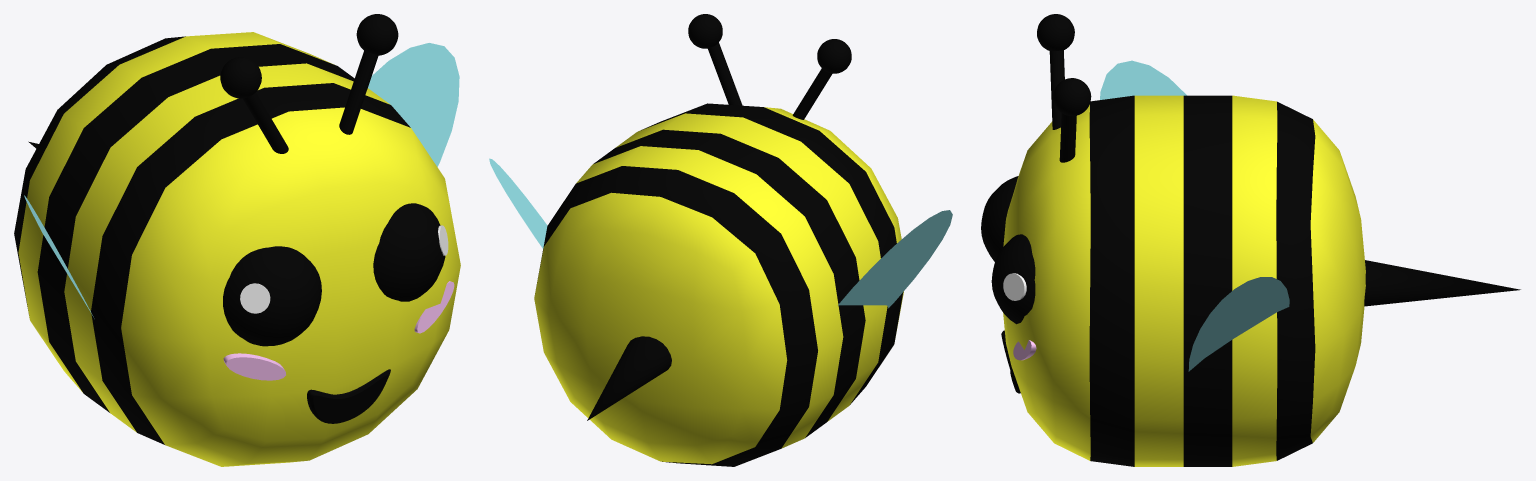
3 renders of one model, left to right at view 1: azimuth 30°, elevation 25°; view 2: azimuth 150°, elevation 25°; view 3: azimuth 270°, elevation 25°, orthographic. The views are drawn at different scales.
Parts seen in each view (by area): view 1: pCube1, polySurface4, pDisc1, polySurface2, bevelPolygon1, pSphere2, pSphere3, pCylinder4, pCylinder6, pCylinder5, polySurface3, pCylinder7 (+1 smaller); view 2: pCube1, pDisc2, pCone1, pDisc1, pSphere2, pSphere3, pCylinder4, pCylinder5; view 3: pCube1, pDisc1, pCone1, polySurface2, pDisc2, polySurface4, pSphere3, pSphere2, pCylinder5, pCylinder4.
Part boxes in pixels (x1,y1,x2,y2): pCube1: [14, 32, 460, 466]; polySurface4: [223, 246, 321, 346]; pDisc1: [368, 43, 459, 166]; polySurface2: [373, 203, 445, 301]; bevelPolygon1: [307, 369, 390, 423]; pSphere2: [220, 57, 261, 98]; pSphere3: [356, 14, 398, 55]; pCylinder4: [339, 51, 378, 134]; pCylinder6: [223, 353, 285, 380]; pCylinder5: [242, 92, 288, 153]; polySurface3: [240, 283, 270, 313]; pCylinder7: [414, 281, 454, 333]; pCube1: [534, 103, 903, 466]; pDisc2: [838, 210, 952, 308]; pCone1: [587, 336, 671, 420]; pDisc1: [489, 158, 547, 248]; pSphere2: [817, 39, 851, 73]; pSphere3: [688, 14, 722, 48]; pCylinder4: [708, 42, 742, 105]; pCylinder5: [792, 68, 832, 119]; pCube1: [1003, 95, 1365, 466]; pDisc1: [1188, 277, 1289, 371]; pCone1: [1364, 260, 1520, 306]; polySurface2: [991, 234, 1035, 324]; pDisc2: [1100, 60, 1186, 99]; polySurface4: [981, 176, 1018, 261]; pSphere3: [1053, 78, 1091, 116]; pSphere2: [1037, 14, 1074, 50]; pCylinder5: [1049, 50, 1064, 129]; pCylinder4: [1059, 113, 1076, 162].
Bounding box in the file's own units: 0.7326 × 0.6374 × 0.7761.
